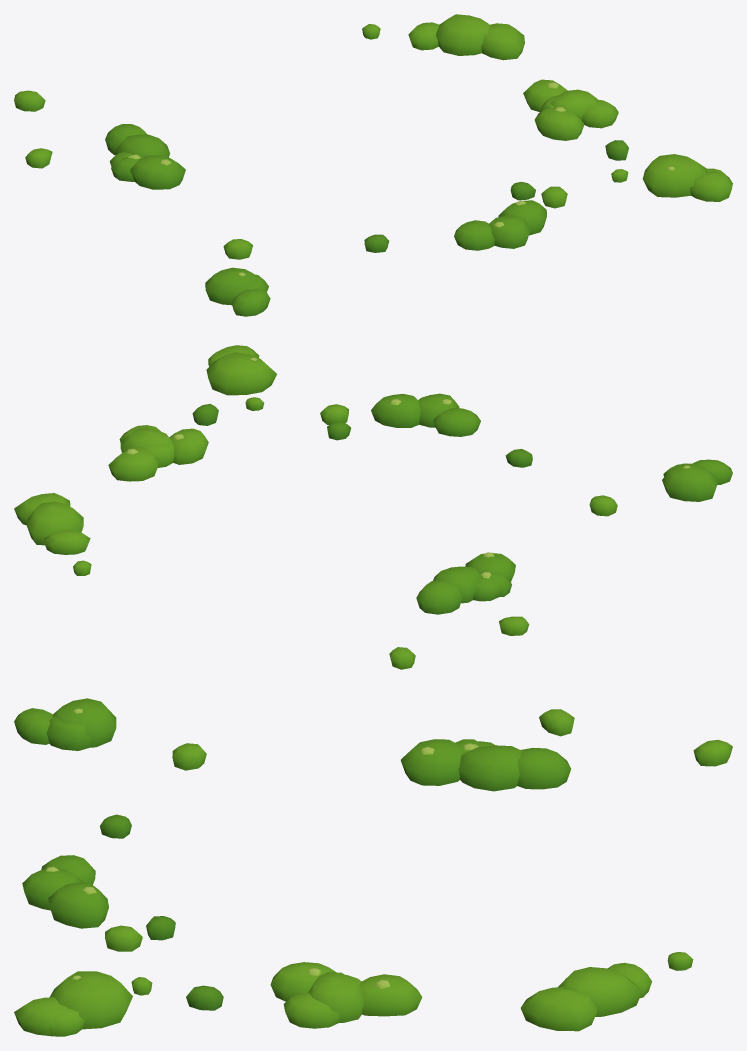
The model's file is tile_moss_end_01.glb.
3 views of the same model, one above another, from view 1: azimuth 30°, elevation 25°; view 2: azimuth 150°, elevation 25°; view 3: azimuth 270°, elevation 25° (orthographic). The views are drawn at different scales.
Visible parts, largest first — view 1: tile_moss_end_01; view 2: tile_moss_end_01; view 3: tile_moss_end_01.
Part boxes in pixels (x1,y1,x2,y2): tile_moss_end_01: [14, 14, 732, 316]; tile_moss_end_01: [14, 345, 732, 669]; tile_moss_end_01: [14, 698, 732, 1036].
Size of the model in its own units: 1 by 0.0475 by 0.9494.
Materials: 1 (1 with a texture image).
